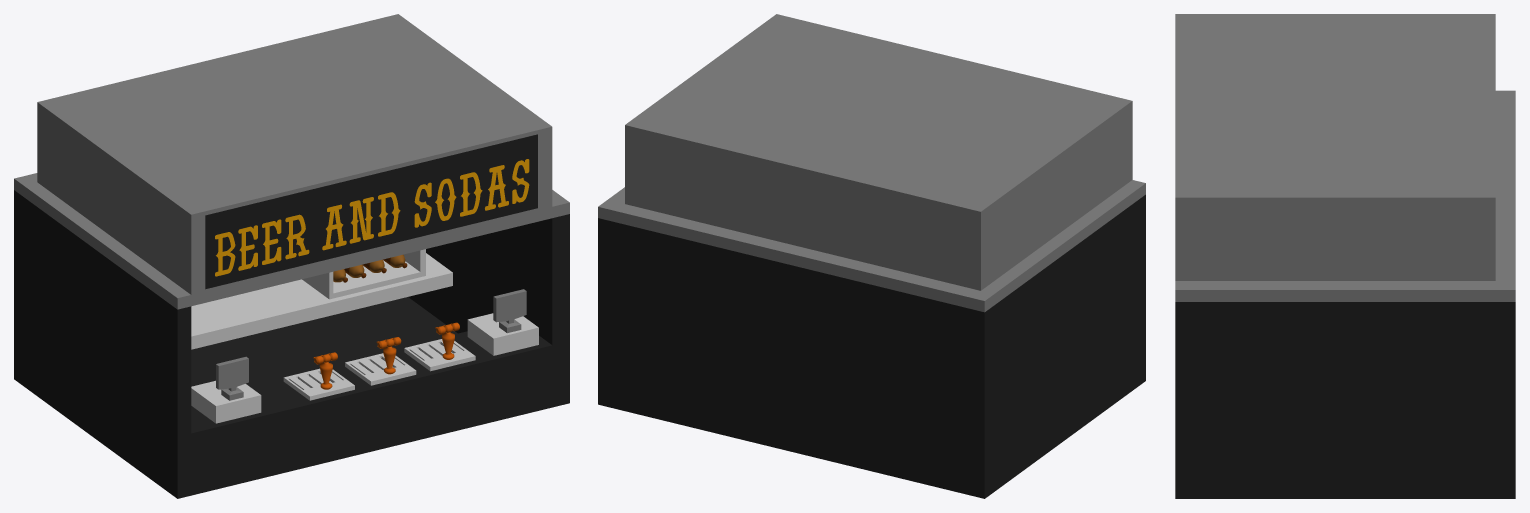
The model's file is SodaStand.fbx.
The picture shows the model from 3 angles, left to right: view 1: azimuth 30°, elevation 25°; view 2: azimuth 150°, elevation 25°; view 3: azimuth 270°, elevation 25°; orthographic projection. The views are drawn at different scales.
Visible parts, largest first — view 1: Cube, Text; view 2: Cube; view 3: Cube.
Boxes of the visible parts, left/top/right/bottom form: Cube: left=14, top=14, right=569, bottom=498; Text: left=215, top=159, right=529, bottom=276; Cube: left=598, top=14, right=1145, bottom=498; Cube: left=1175, top=14, right=1515, bottom=498.
Bounding box in the file's own units: 1734 × 1187 × 1255.
